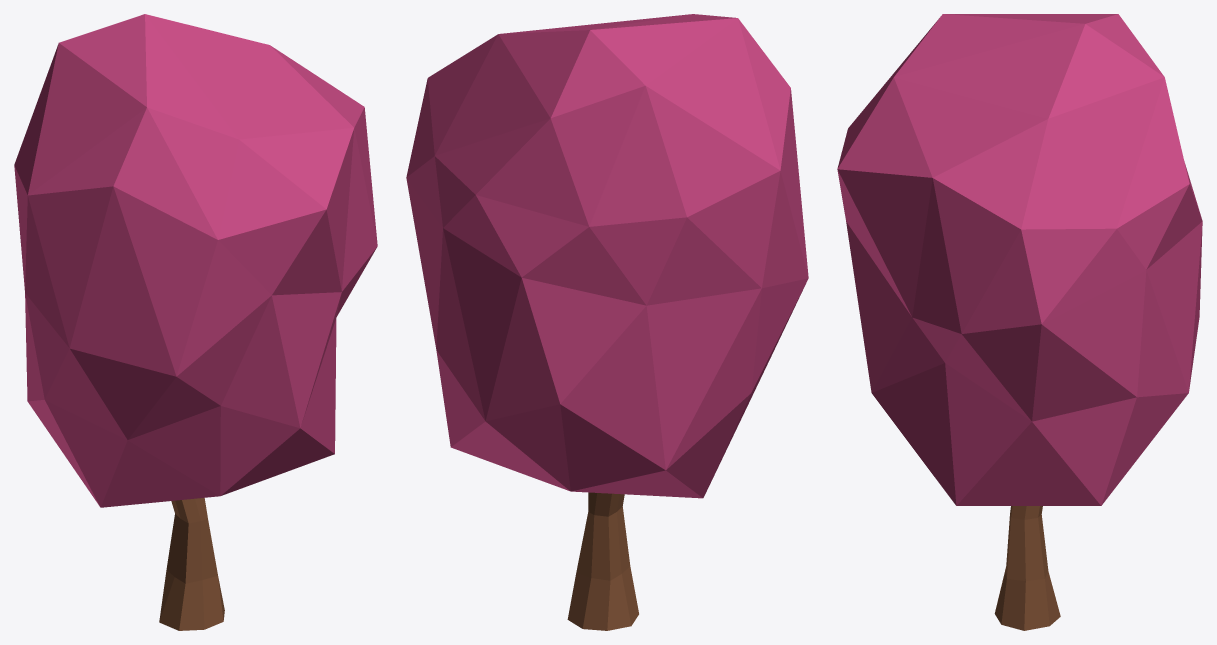
The model's file is Tree_43_Pink.fbx.
3 views of the same model, side by side, from view 1: azimuth 30°, elevation 25°; view 2: azimuth 150°, elevation 25°; view 3: azimuth 270°, elevation 25° (orthographic). The views are drawn at different scales.
Parts seen in each view (by area): view 1: Tree_43_Pink_Part_1, Tree_43_Pink_Part_2; view 2: Tree_43_Pink_Part_1, Tree_43_Pink_Part_2; view 3: Tree_43_Pink_Part_1, Tree_43_Pink_Part_2.
Boxes of the visible parts, x1=… form: Tree_43_Pink_Part_1: x1=14, y1=14, x2=377, y2=507; Tree_43_Pink_Part_2: x1=159, y1=498, x2=224, y2=630; Tree_43_Pink_Part_1: x1=406, y1=14, x2=808, y2=498; Tree_43_Pink_Part_2: x1=567, y1=492, x2=638, y2=630; Tree_43_Pink_Part_1: x1=837, y1=14, x2=1202, y2=505; Tree_43_Pink_Part_2: x1=994, y1=506, x2=1060, y2=630.
Size of the model in its own units: 500 by 807 by 458.
